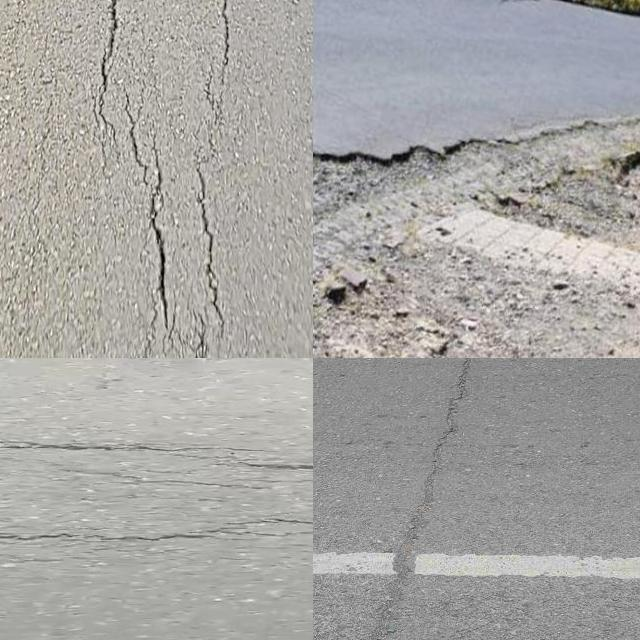Melintang: (0, 428, 313, 481)
Memanjang: (343, 358, 490, 640), (117, 129, 181, 327), (80, 0, 125, 131), (214, 0, 256, 83)
Pinggir: (313, 114, 640, 358)
